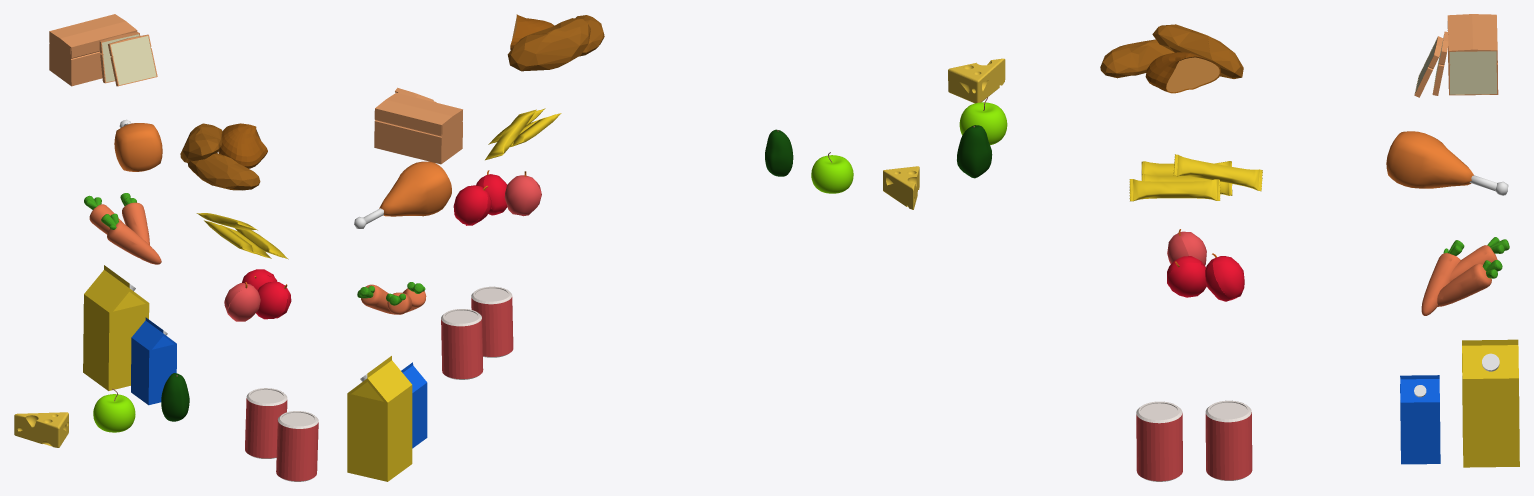
File: FoodTeo.fbx
3 renders of one model, left to right at view 1: azimuth 30°, elevation 25°; view 2: azimuth 150°, elevation 25°; view 3: azimuth 270°, elevation 25°, orthographic. The views are drawn at different scales.
Visible parts, largest first — view 1: Milk, Bread.003, Milk.001, Cylinder.001, Cylinder.002, Chickendrum, Slice of bread, Bread, Cheese, Bread.002, Apple.003, Carrot (+11 smaller); view 2: Milk, Bread.003, Chickendrum, Bread.001, Cylinder.002, Cylinder.001, Apple.003, Milk.001, Cheese, Apple.002, Apple, Cube (+4 smaller); view 3: Milk, Chickendrum, Bread.003, Milk.001, Cylinder.001, Cylinder.002, Bread.002, Bread.001, Cheese, Bread, Candy bar, Candy bar.003 (+9 smaller).
Part boxes in pixels (x1,y1,x2,y2): Milk: (83, 265, 149, 390); Bread.003: (49, 14, 137, 86); Milk.001: (131, 317, 176, 405); Cylinder.001: (276, 411, 318, 481); Cylinder.002: (245, 388, 287, 458); Chickendrum: (114, 119, 162, 171); Slice of bread: (108, 34, 157, 86); Bread: (187, 153, 260, 190); Cheese: (14, 412, 68, 447); Bread.002: (218, 123, 267, 168); Apple.003: (93, 388, 135, 432); Carrot: (101, 213, 161, 264); Milk: (347, 356, 412, 481); Bread.003: (374, 92, 462, 164); Chickendrum: (354, 161, 451, 228); Bread.001: (507, 18, 590, 71); Cylinder.002: (441, 309, 483, 379); Cylinder.001: (471, 286, 513, 357); Apple.003: (811, 152, 853, 193); Milk.001: (401, 362, 427, 448); Cheese: (883, 166, 919, 209); Apple.002: (453, 185, 491, 225); Apple: (504, 171, 541, 216); Cube: (765, 129, 793, 176); Milk: (1462, 339, 1519, 467); Chickendrum: (1386, 131, 1508, 195); Bread.003: (1447, 14, 1498, 95); Milk.001: (1400, 375, 1440, 464); Cylinder.001: (1136, 401, 1182, 481); Cylinder.002: (1205, 400, 1252, 480); Bread.002: (1145, 52, 1220, 93); Bread.001: (1152, 24, 1243, 78); Cheese: (948, 58, 1005, 103); Bread: (1100, 39, 1174, 78); Candy bar: (1129, 179, 1220, 201); Candy bar.003: (1173, 154, 1262, 191).
Size of the model in its own units: 177 by 165 by 209.
